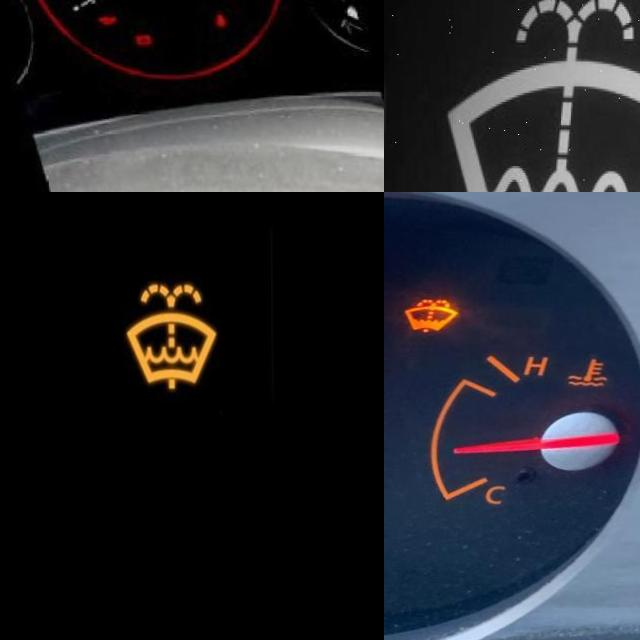High Engine Coolant Temperature: (562, 354, 613, 389)
Seat Belt: (204, 5, 222, 23)
Washer Fluid: (444, 0, 640, 192)
